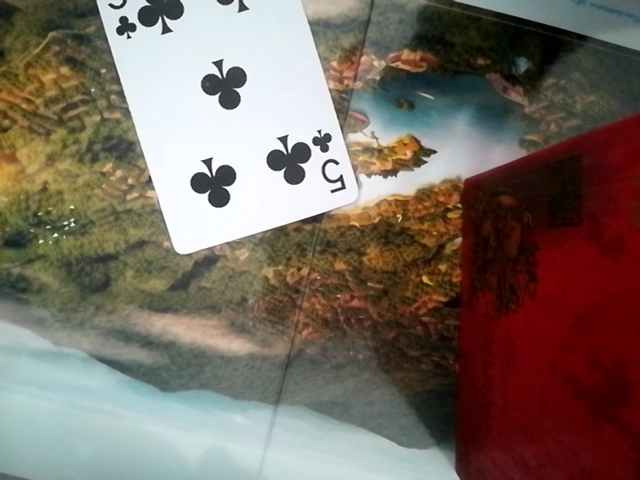mh 5: (91, 0, 352, 260)
